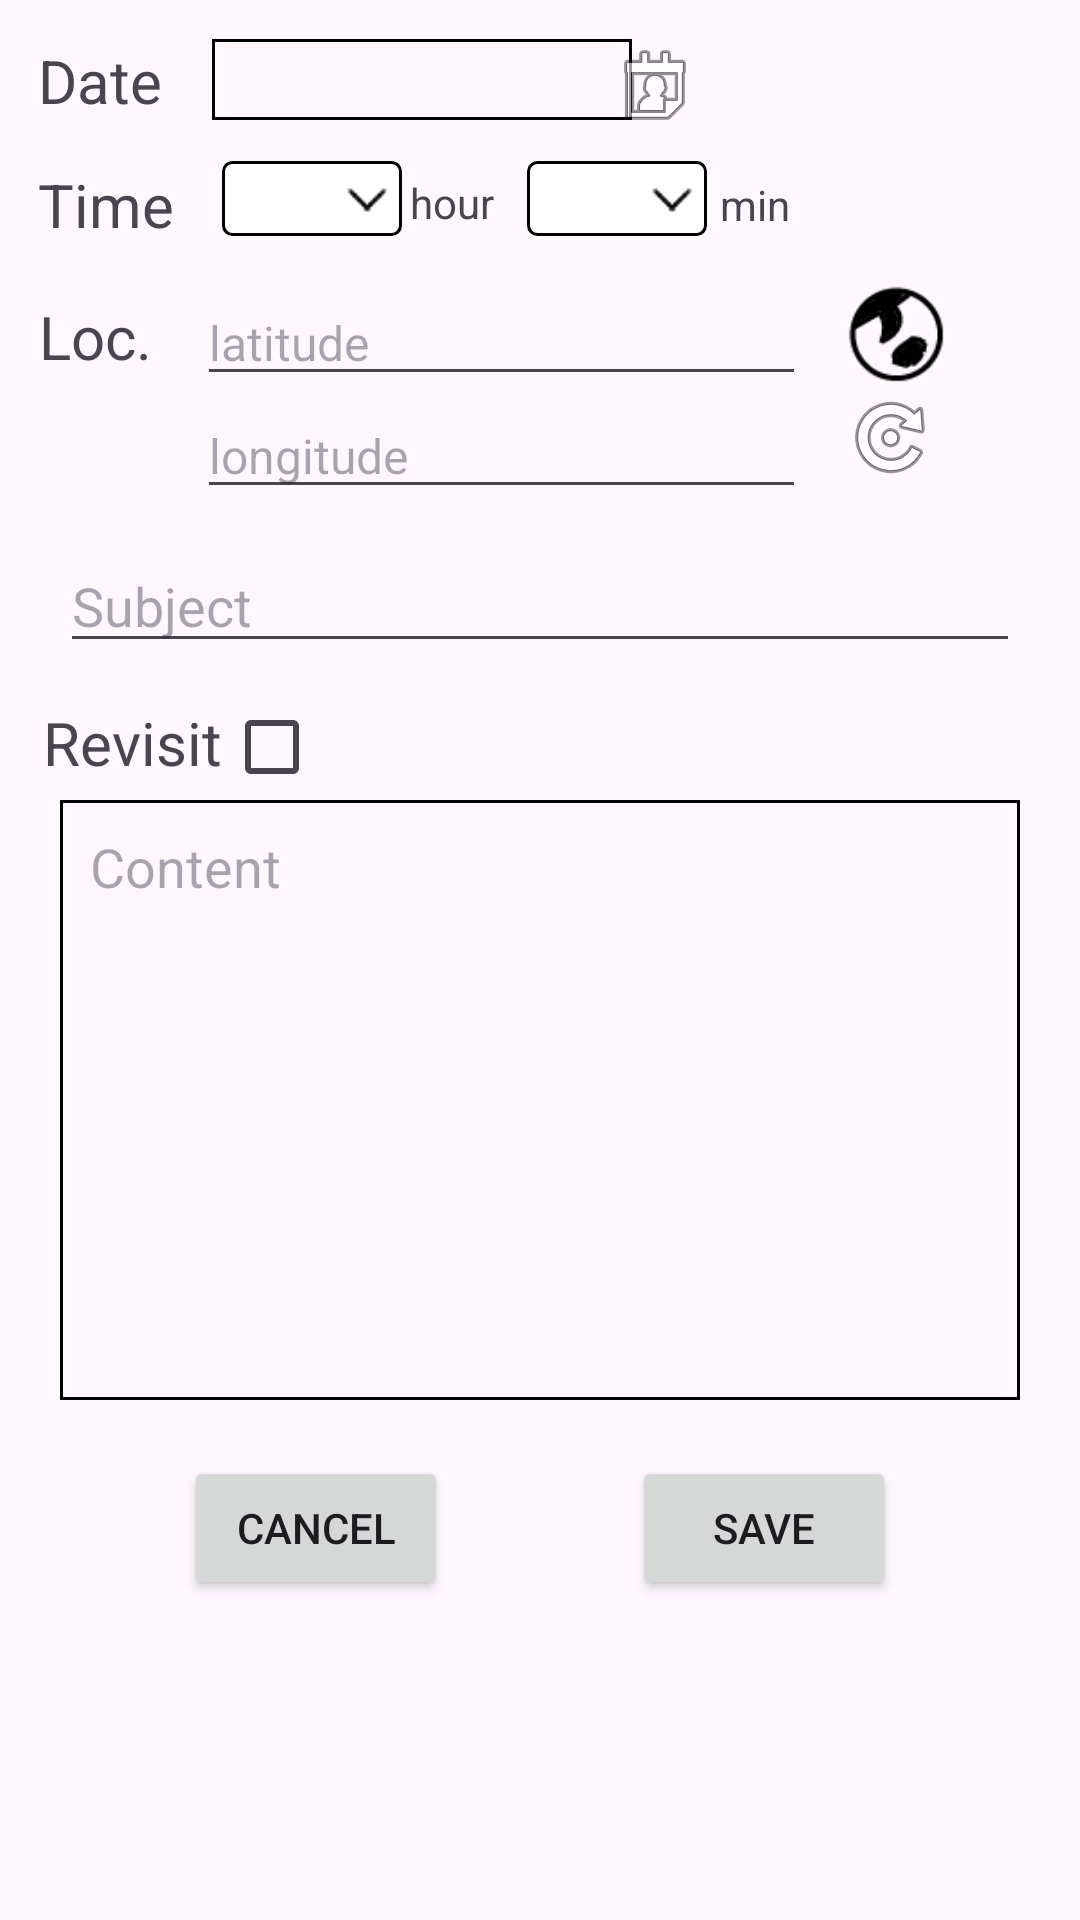

Point at icon controls on the screen. Image size 1080x1920, points as (x=x, y=y).
earth: (x=896, y=334)
rotate: (x=890, y=437)
